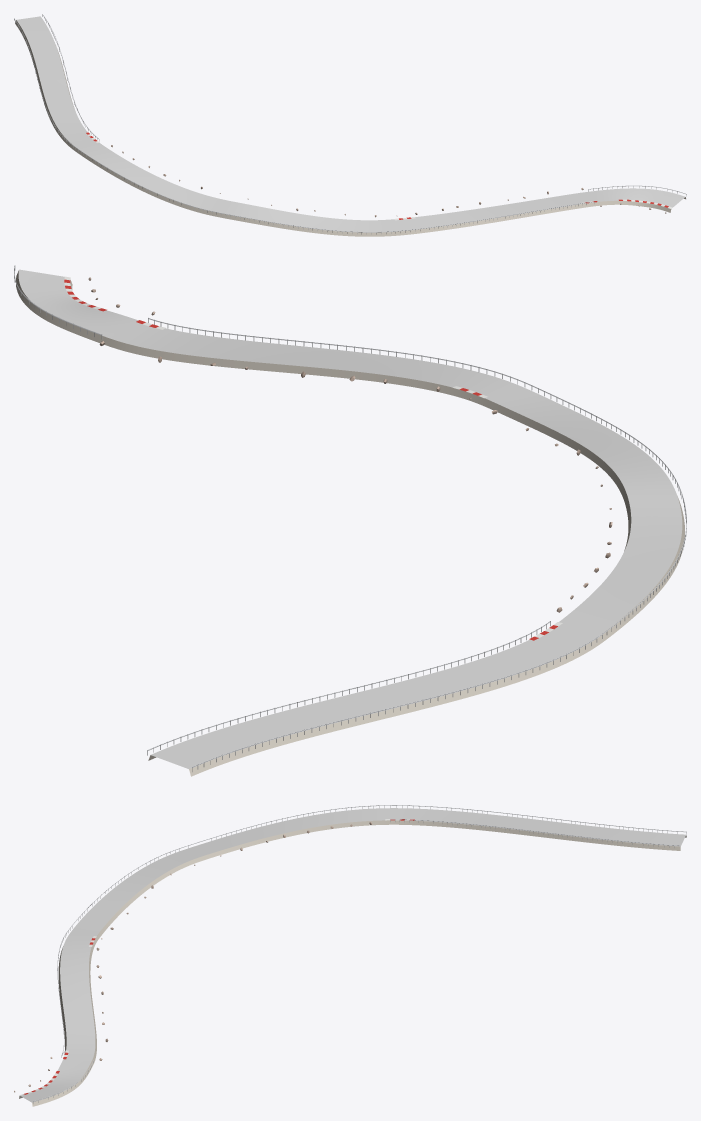
File: SM_AsirMountains_Track_05.fbx
The picture shows the model from 3 angles, top to bottom: view 1: azimuth 30°, elevation 25°; view 2: azimuth 150°, elevation 25°; view 3: azimuth 270°, elevation 25°; orthographic projection. The views are drawn at different scales.
Parts seen in each view (by area): view 1: SM_AsirMountains_Track_05; view 2: SM_AsirMountains_Track_05; view 3: SM_AsirMountains_Track_05.
Boxes of the visible parts, bbox=[...] form: SM_AsirMountains_Track_05: bbox=[14, 14, 686, 236]; SM_AsirMountains_Track_05: bbox=[14, 265, 686, 776]; SM_AsirMountains_Track_05: bbox=[14, 805, 686, 1106].
Bounding box in the file's own units: 22420 × 3009 × 25670.
